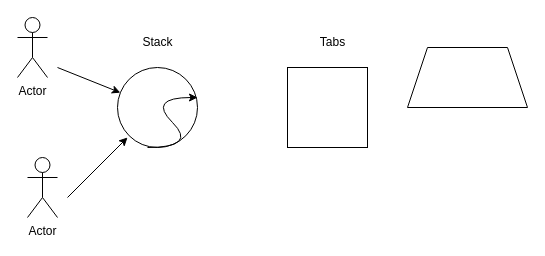
This 545x256 diagram has some shape labels left out. The shapes that lost their labels are listed below. From the top down, each one's centre as x and y in pixels, then its label:
point (157, 107): auth
point (327, 107): social app
